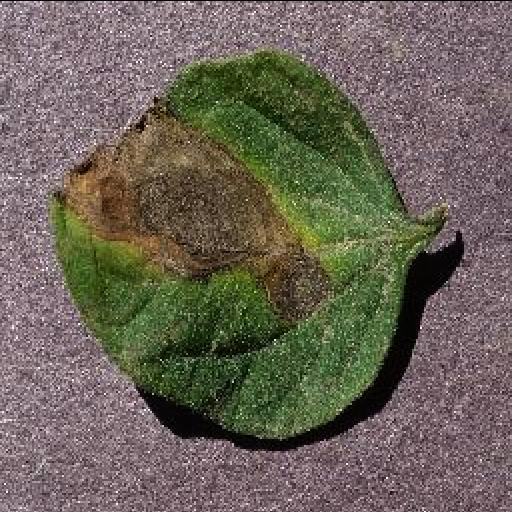disease_tomato: (52, 46, 408, 446)
